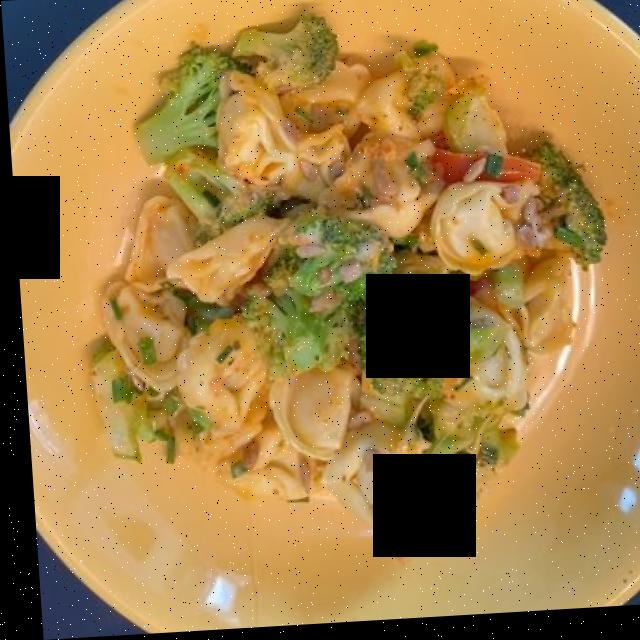broccoli: (88, 23, 600, 515)
pasta-tortelloni-stuffing: (117, 70, 575, 535)
sunflower-seeds: (274, 213, 368, 344)
tomato-raw: (406, 139, 533, 326)
